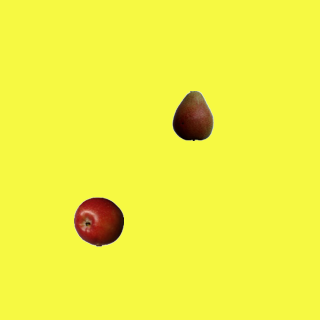Apple Braeburn: (73, 196, 123, 246)
Pear Forelle: (167, 90, 217, 140)
